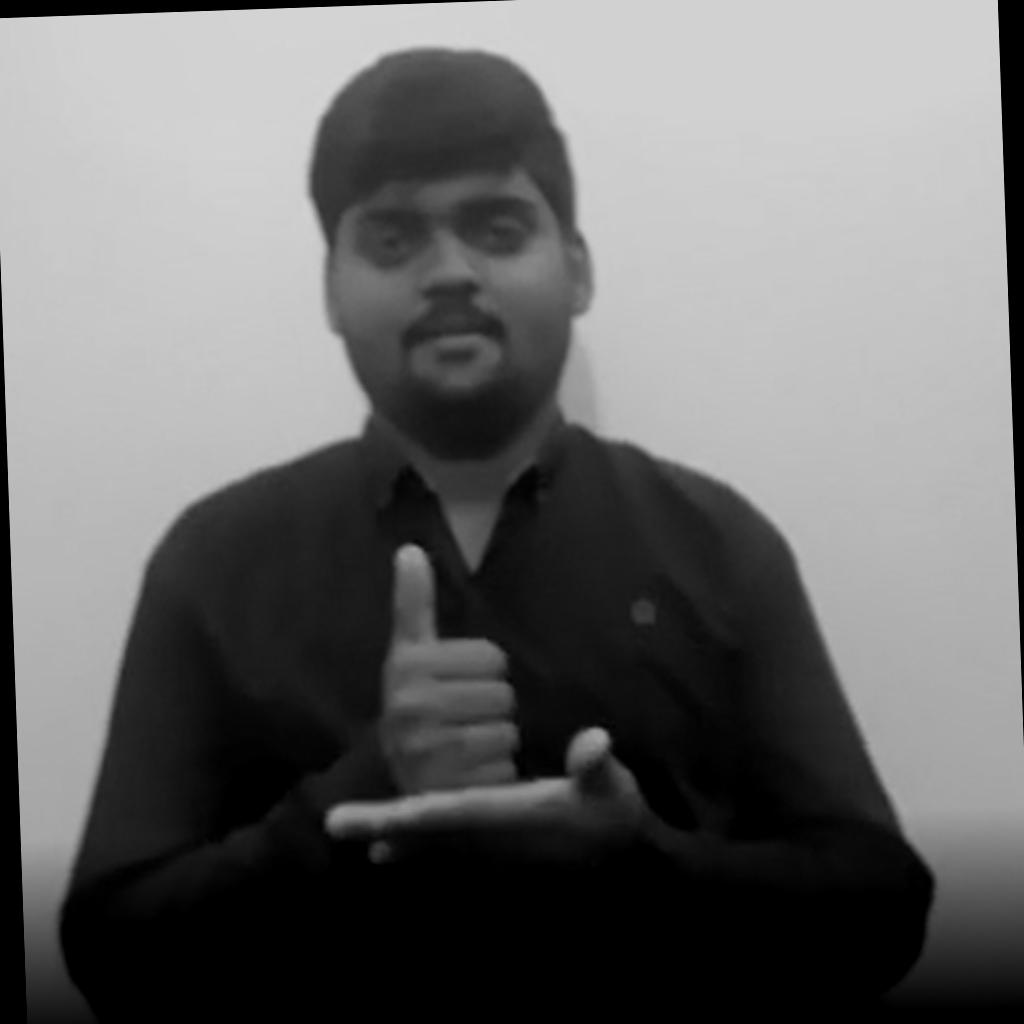help: (315, 536, 641, 894)
